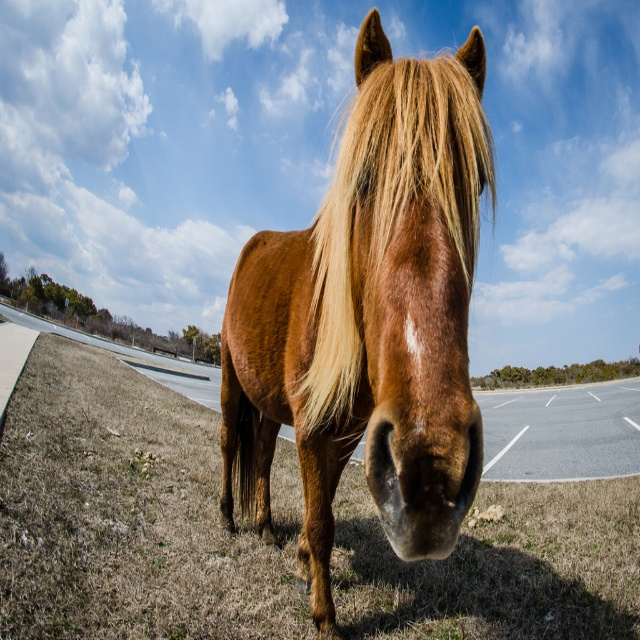Horse: (216, 7, 504, 639)
